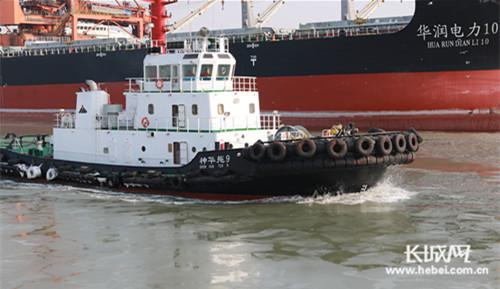Cargoship: (1, 1, 500, 121)
otherboat: (5, 22, 423, 200)
